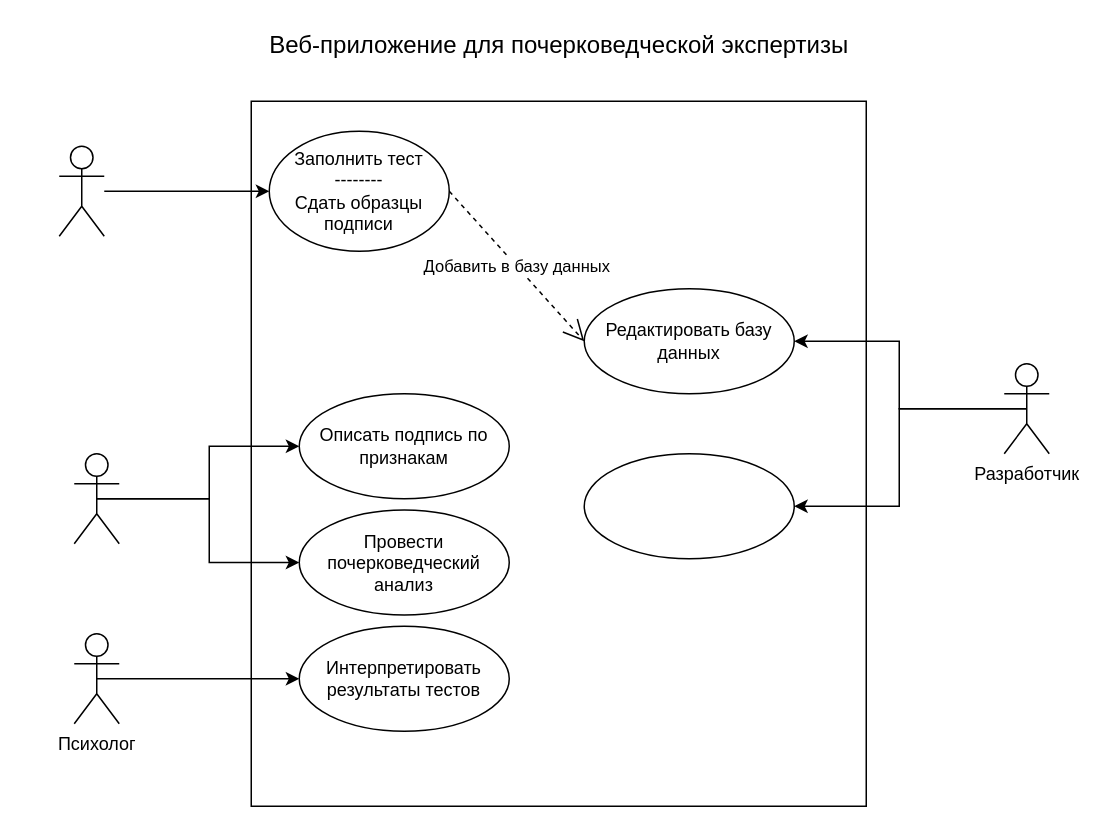
This 1104x833 diagram has some shape labels left out. The box of each missing label's shape, as (x1, y1, x2, y2) in pixels:
Почерковед: (73, 452, 119, 544)
Редактировать приложение: (583, 452, 794, 559)
Тестируемый: (58, 145, 104, 236)
